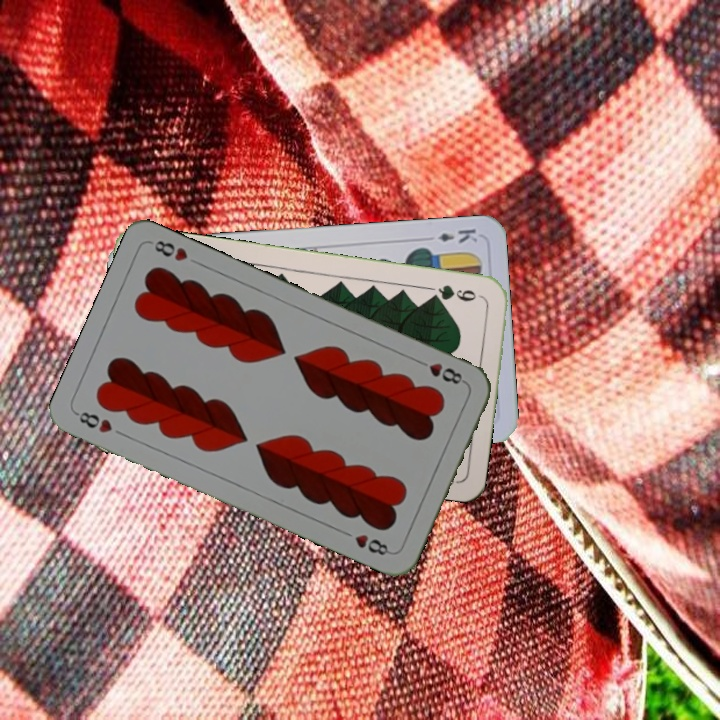EK: (434, 224, 480, 246)
G9: (425, 281, 479, 304)
H8: (412, 355, 468, 387), (72, 407, 115, 436)
